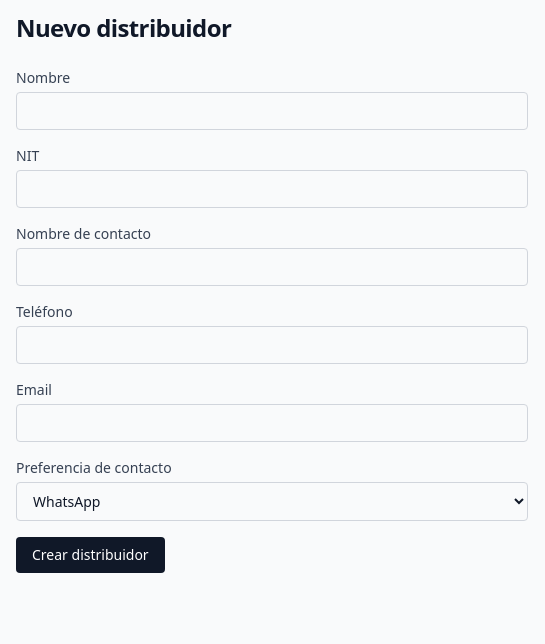
Test: DistributorFormPage (DIST-1 · §S2 fila Distributor form) › escritura forzada denegada (42501): mensaje amigable, sin texto crudo, sin navegación (DIST-1)
Step 1. Type "Distribuidora Andes" into the field labelled "Nombre" → [272, 111], box [16, 92, 528, 130]
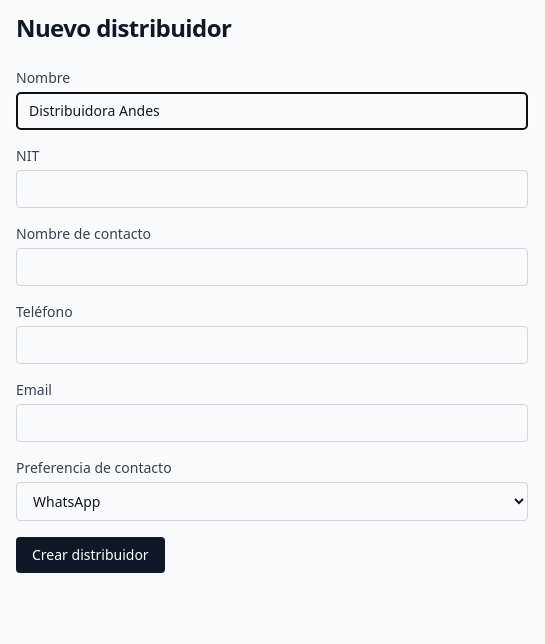
Step 2. Type "900123456" into the field labelled "NIT" → [272, 189], box [16, 170, 528, 208]
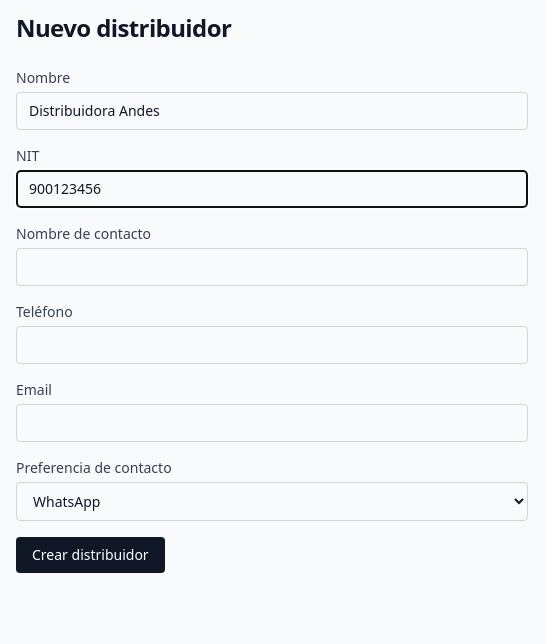
Step 3. Click the button "Crear distribuidor" → [90, 555], box [16, 537, 165, 573]
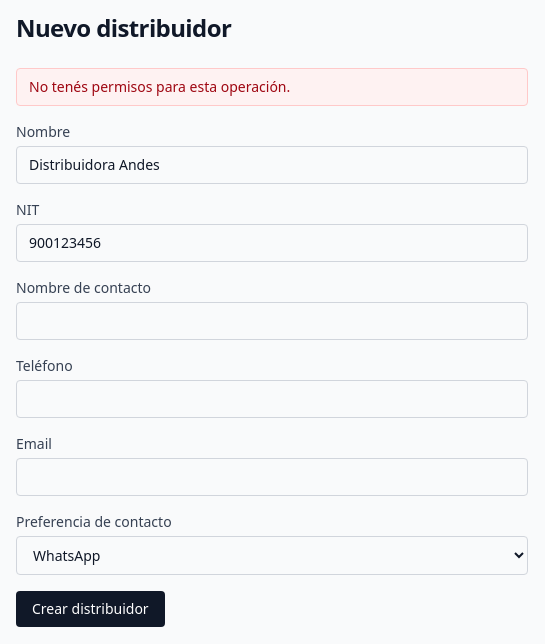
Expected: the button "Crear distribuidor" is shown, [16, 591, 165, 627]
Result: the message reads "No tenés permisos para esta operación." at [29, 77, 290, 96]
